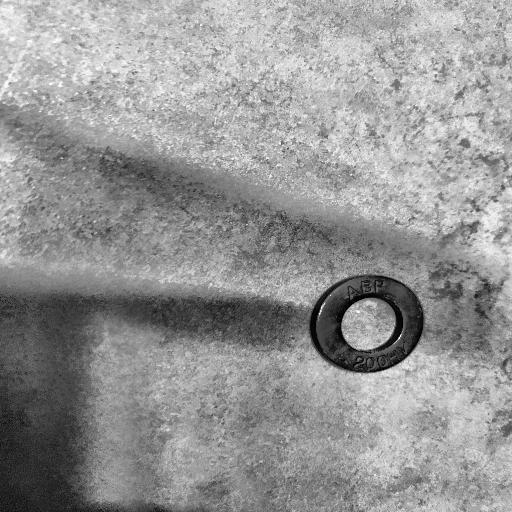Washer: (309, 275, 425, 374)
